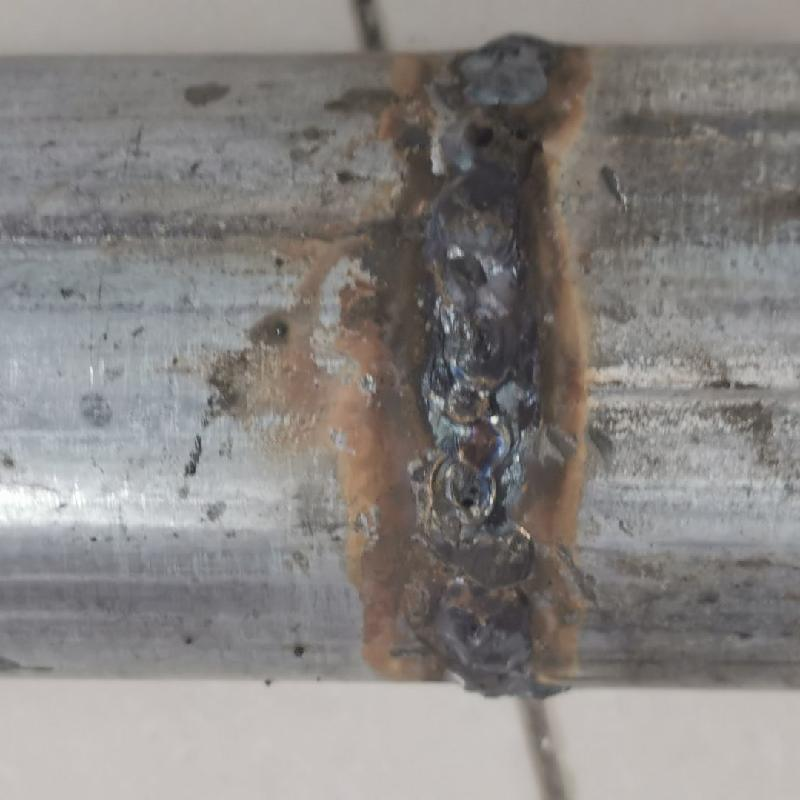Surface_pores: (452, 108, 506, 158), (448, 473, 500, 515)
crater: (437, 174, 528, 525)
